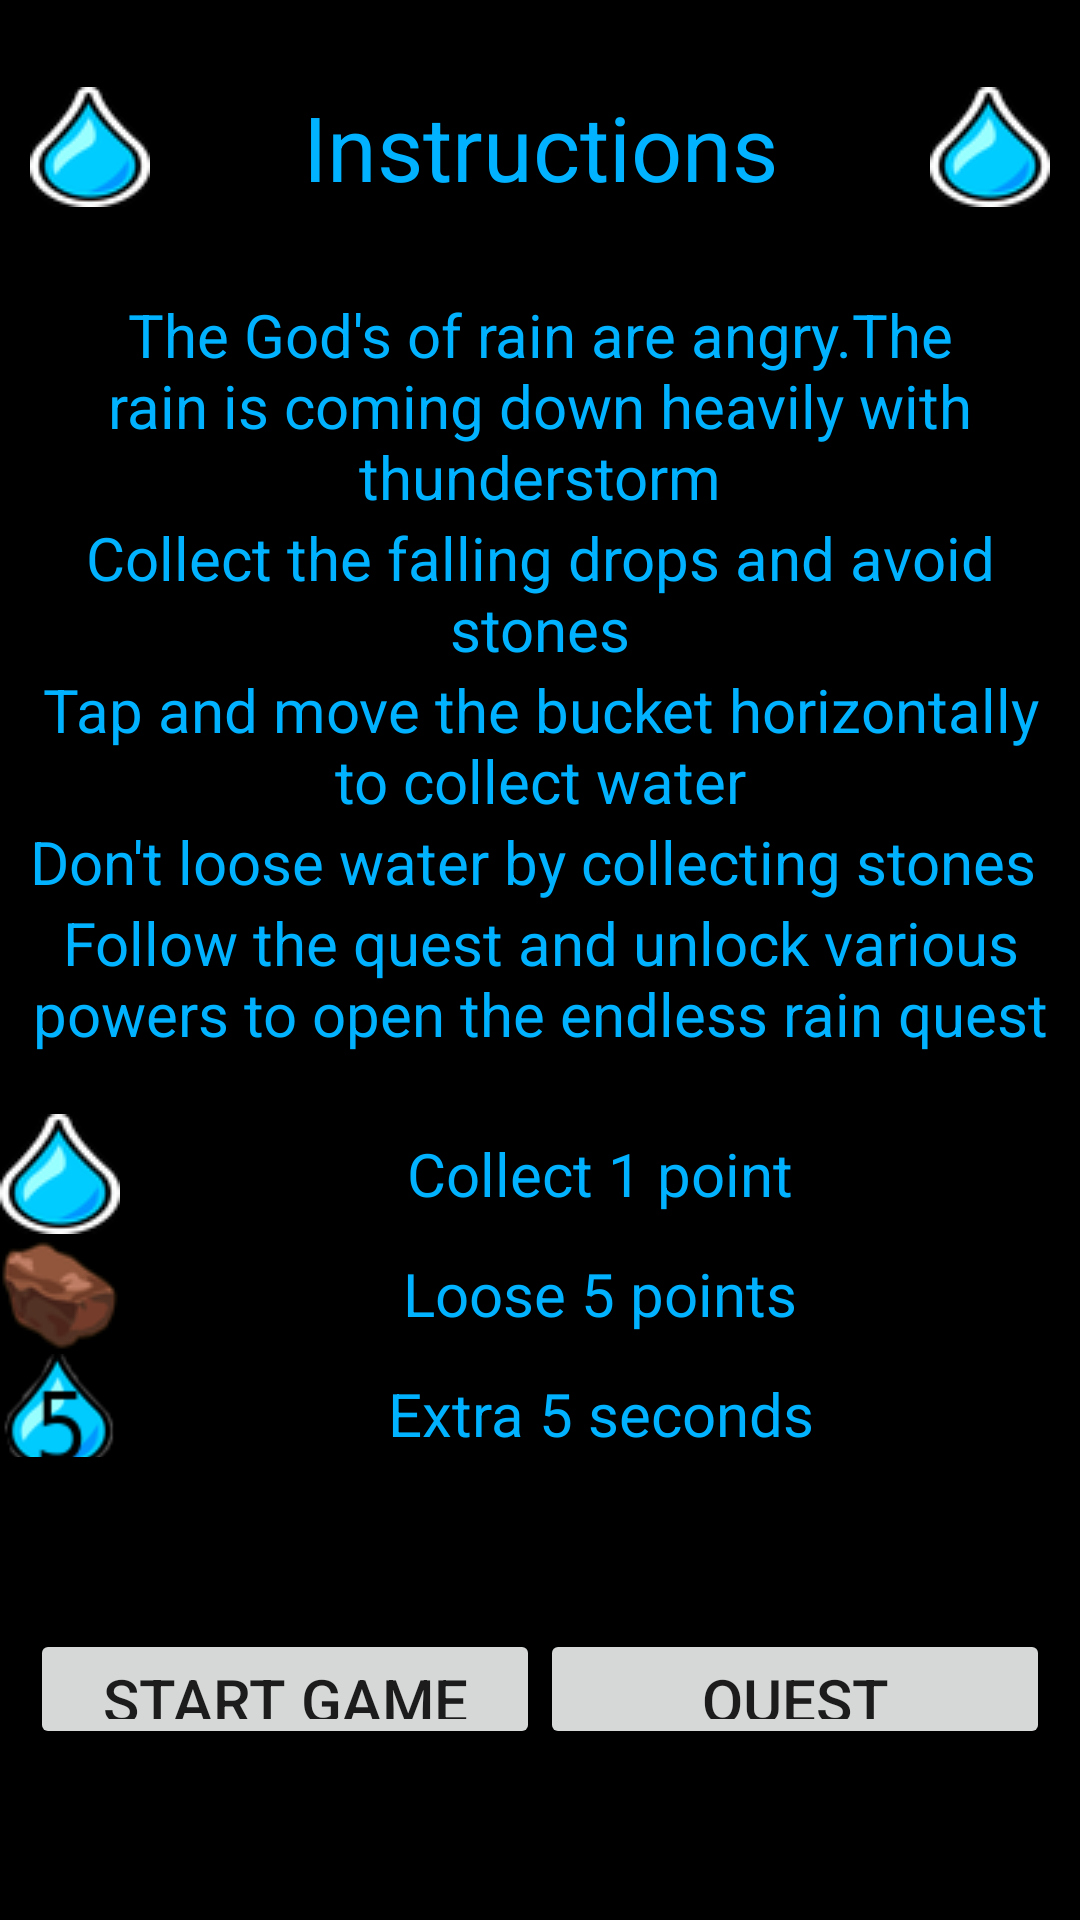

Screen size 1080 x 1920. Icon name, then its center in pixels as point (x, y):
stone: point (59, 1295)
